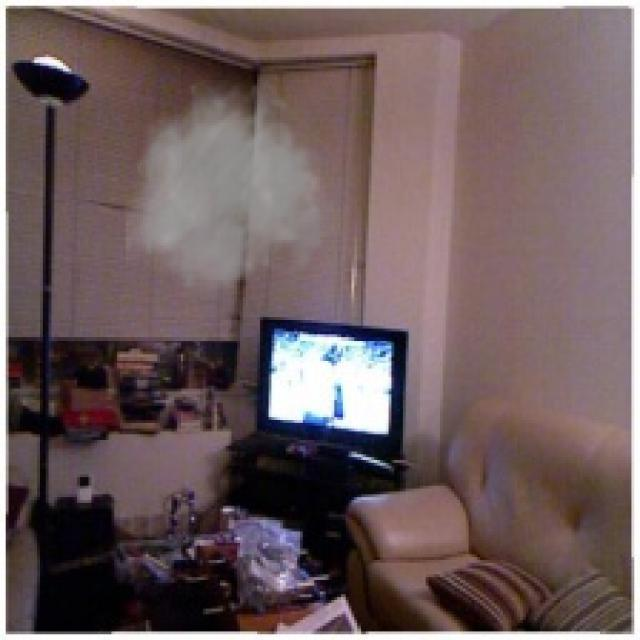Smoke: (126, 74, 343, 303)
